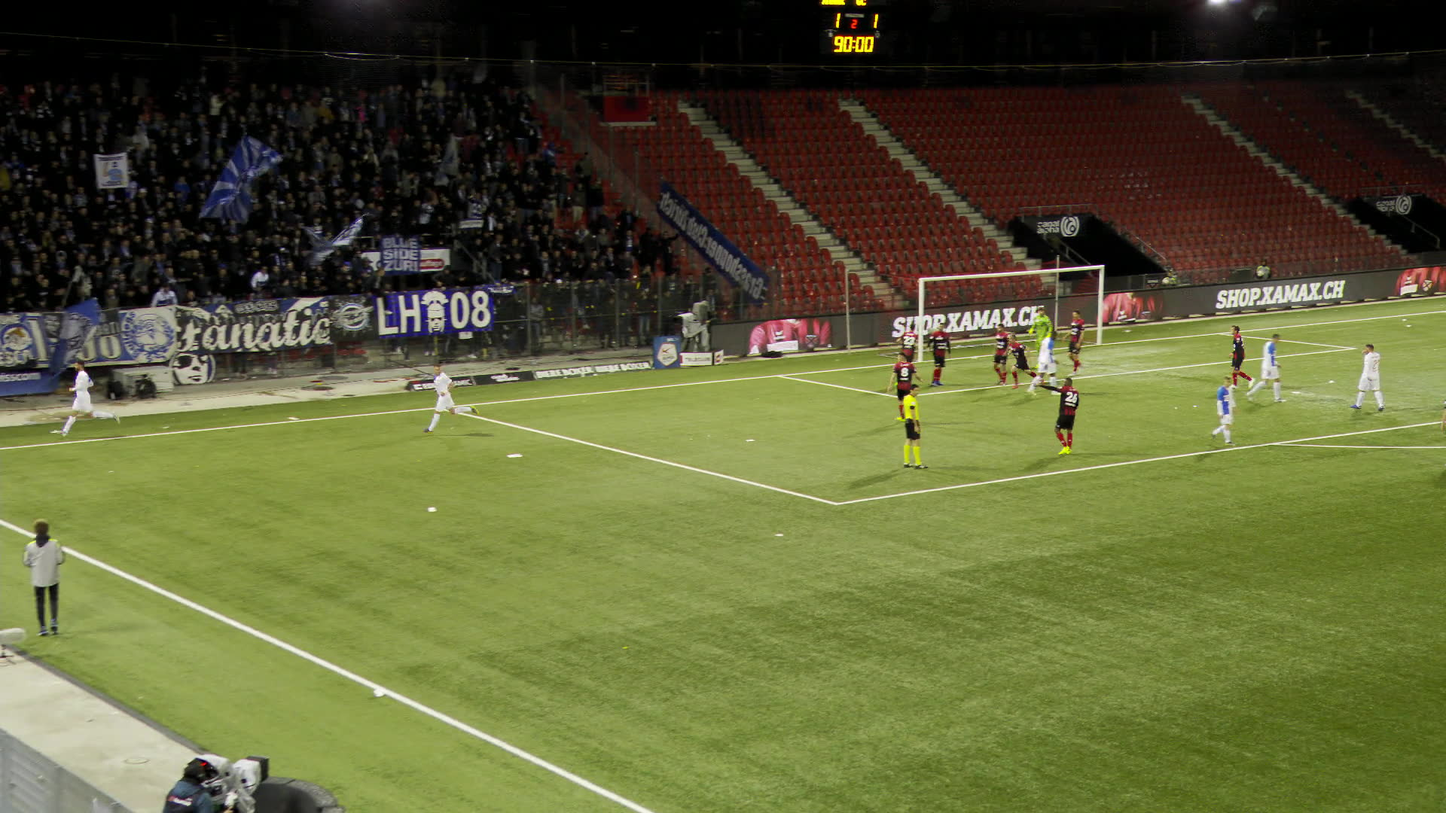player: (1028, 379, 1078, 455), (65, 361, 109, 438), (430, 364, 468, 437), (1246, 333, 1283, 403), (1347, 343, 1380, 410), (1219, 325, 1252, 391), (1203, 376, 1234, 446), (1025, 330, 1056, 394), (887, 352, 913, 422), (1006, 334, 1034, 389), (923, 323, 946, 387), (1060, 310, 1081, 377), (983, 324, 1005, 385), (1023, 306, 1047, 349), (892, 327, 914, 371), (1438, 400, 1445, 470)
referee: (897, 384, 925, 469)
